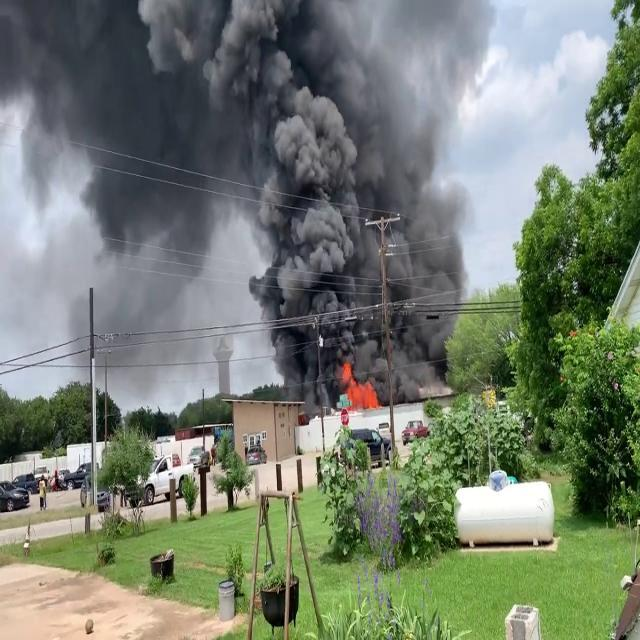Fire: (339, 358, 380, 408)
Smoke: (2, 0, 477, 397)
